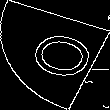O_E: (14, 25, 96, 85)
